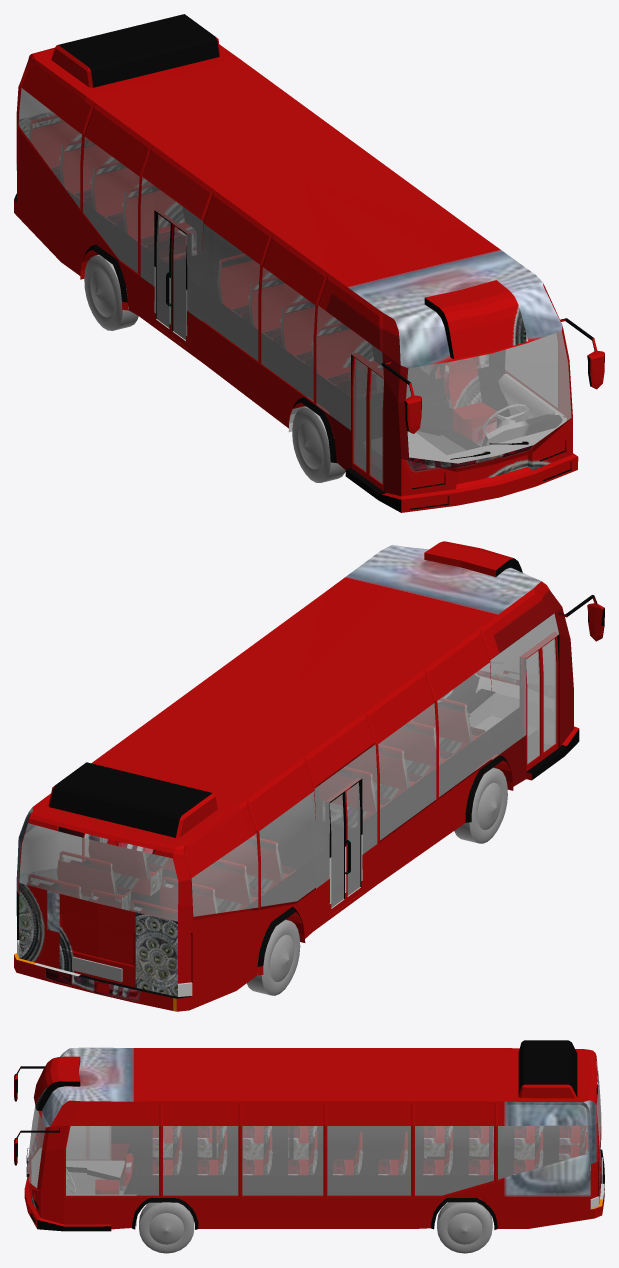
File: Bus_03.fbx
3 views of the same model, one above another, from view 1: azimuth 30°, elevation 25°; view 2: azimuth 150°, elevation 25°; view 3: azimuth 270°, elevation 25° (orthographic). The views are drawn at different scales.
Visible parts, largest first — view 1: Bus_3body, Bus_3_Window, Bus_3_Interior, RR, FR, Bus_3_Door_R_Glass, Bus_3_Door_L_Glass, Bus_3_Door_R, Bus_3_Door_L; view 2: Bus_3body, Bus_3_Window, Bus_3_Interior, RR, FR, Bus_3_Door_L_Glass, Bus_3_Door_R_Glass, Bus_3_Door_L, Bus_3_Door_R, NumberPlate; view 3: Bus_3body, Bus_3_Window, Bus_3_Interior, RL, FL, Bus_3_Door_R_Glass, Bus_3_Door_L_Glass.
Boxes of the visible parts, box(x1,y1,x2,y2) form: Bus_3body: box(14, 14, 604, 512); Bus_3_Window: box(18, 88, 571, 463); Bus_3_Interior: box(29, 115, 566, 463); RR: box(84, 254, 138, 330); FR: box(292, 407, 345, 482); Bus_3_Door_R_Glass: box(353, 358, 367, 471); Bus_3_Door_L_Glass: box(370, 370, 383, 483); Bus_3_Door_R: box(351, 353, 371, 479); Bus_3_Door_L: box(367, 365, 383, 491); Bus_3body: box(14, 541, 604, 1011); Bus_3_Window: box(19, 613, 558, 921); Bus_3_Interior: box(27, 673, 522, 921); RR: box(247, 919, 300, 995); FR: box(454, 767, 507, 843); Bus_3_Door_L_Glass: box(542, 638, 556, 751); Bus_3_Door_R_Glass: box(526, 650, 539, 763); Bus_3_Door_L: box(538, 633, 558, 759); Bus_3_Door_R: box(521, 645, 542, 771); NumberPlate: box(72, 956, 122, 981); Bus_3body: box(14, 1040, 604, 1231); Bus_3_Window: box(27, 1067, 601, 1195); Bus_3_Interior: box(31, 1126, 588, 1226); RL: box(437, 1202, 492, 1253); FL: box(139, 1202, 194, 1253); Bus_3_Door_R_Glass: box(88, 1126, 110, 1159); Bus_3_Door_L_Glass: box(66, 1126, 86, 1159).
Bounding box in the file's own units: 243 × 262 × 872.
